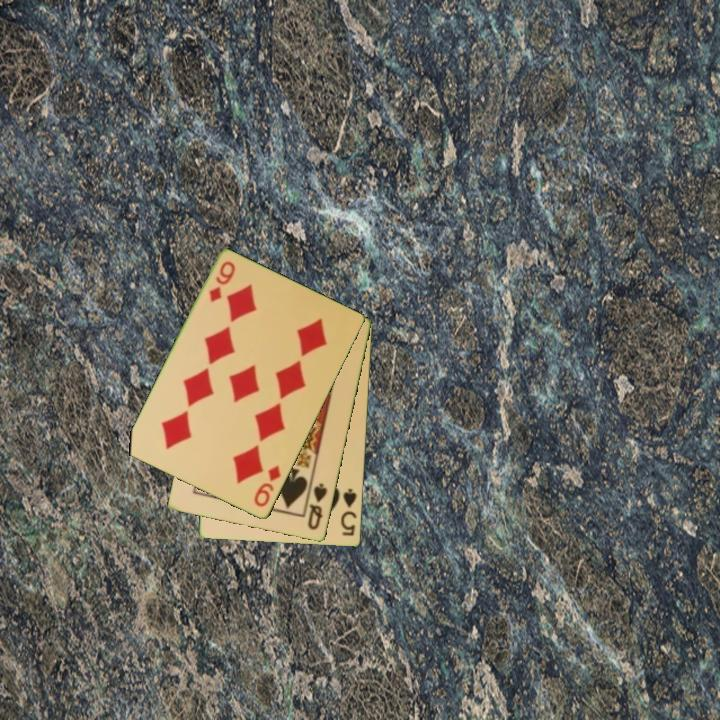5s: (337, 485, 360, 539)
9d: (251, 462, 284, 510), (206, 258, 238, 305)
Qs: (305, 480, 331, 533)
